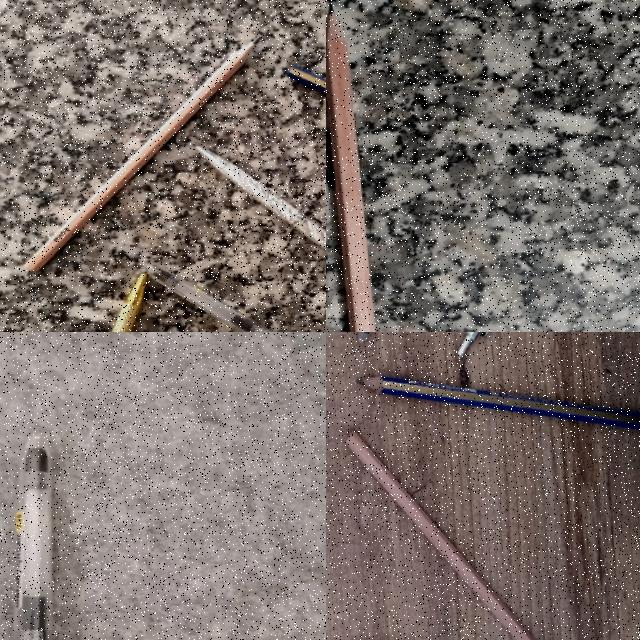pen: (145, 249, 326, 332), (15, 435, 53, 639)
pencil: (25, 41, 254, 269), (346, 432, 535, 640), (355, 356, 640, 446), (326, 6, 375, 331)
signature pen: (197, 147, 326, 250), (47, 272, 160, 332)
